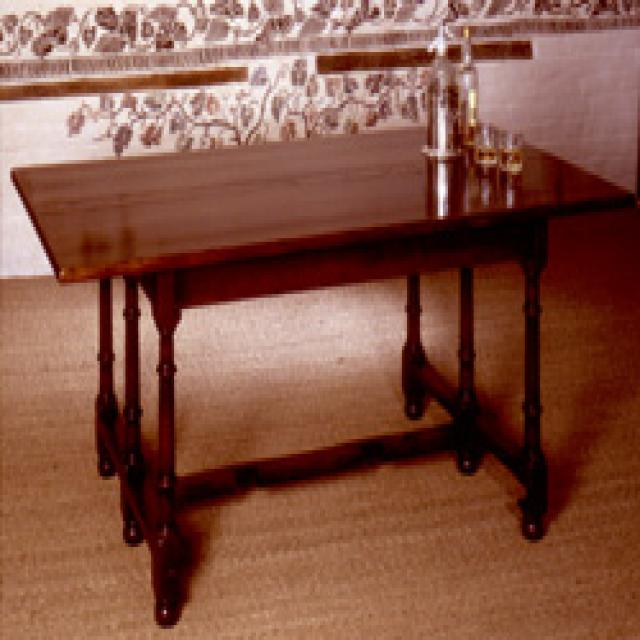table: (11, 121, 640, 628)
